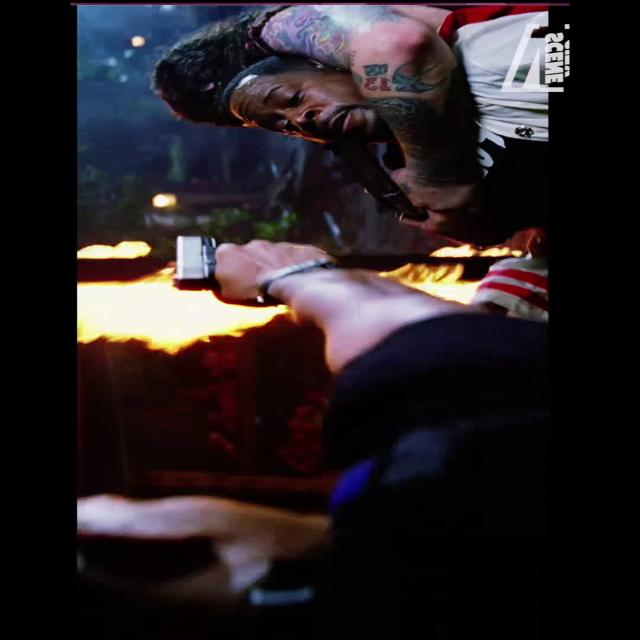weapons: (150, 221, 276, 299)
